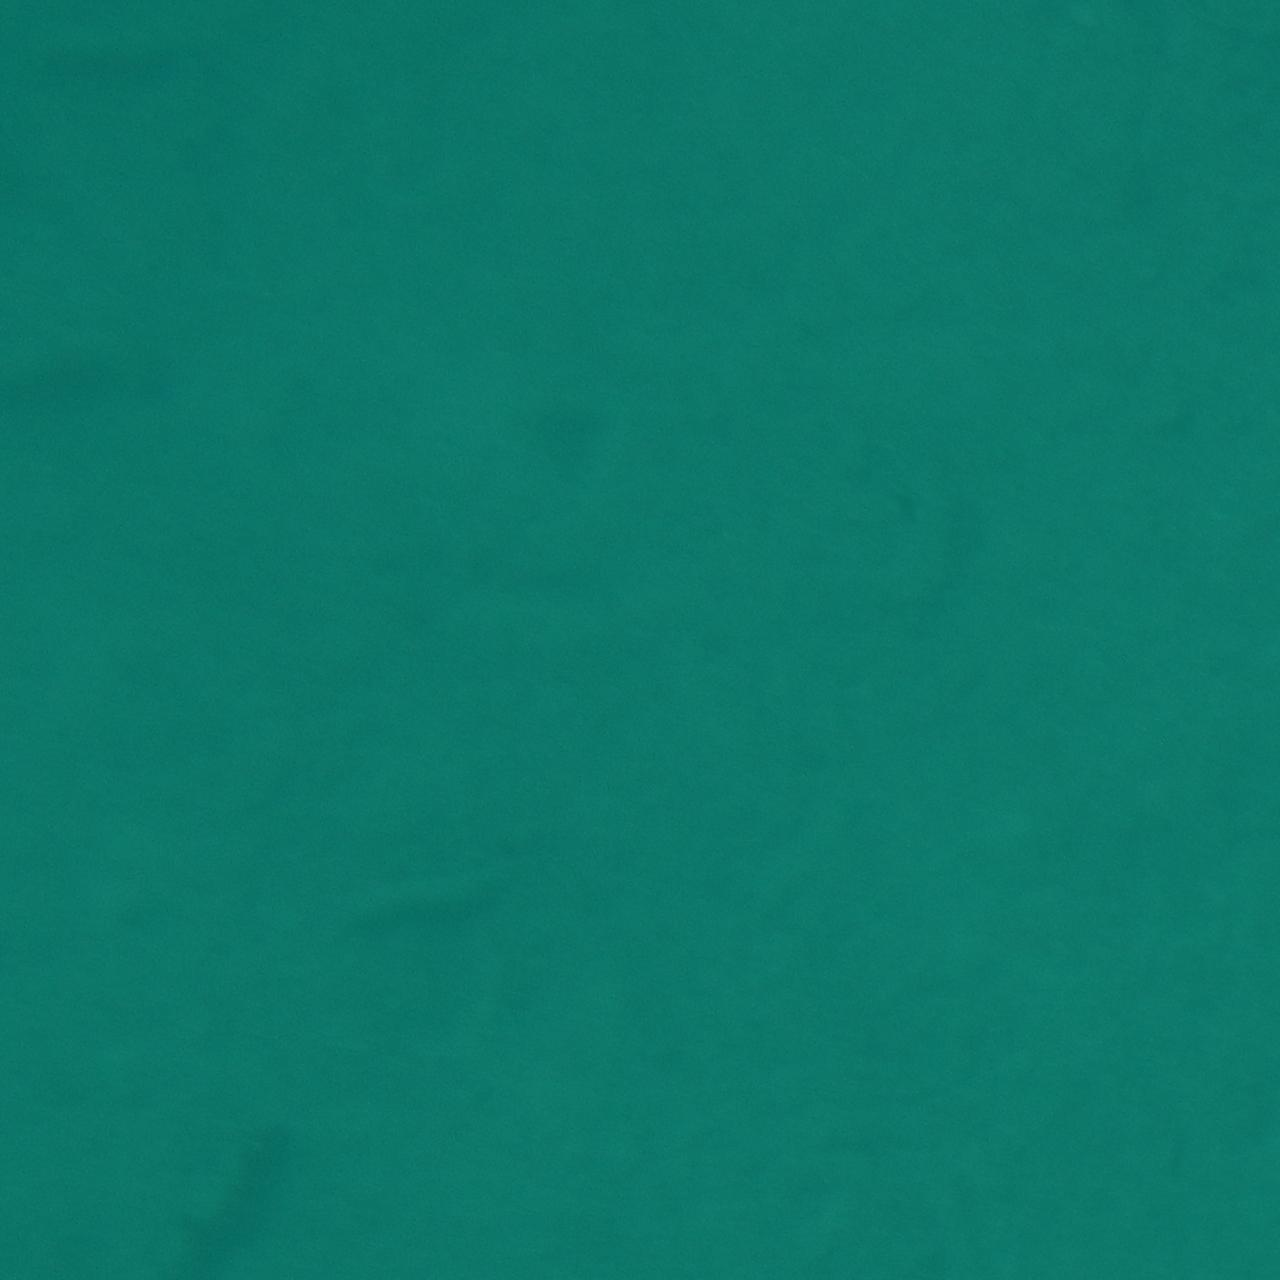Holothuria tubulosa: (105, 1095, 328, 1280), (0, 305, 217, 462), (2, 0, 272, 124), (318, 850, 540, 960)
